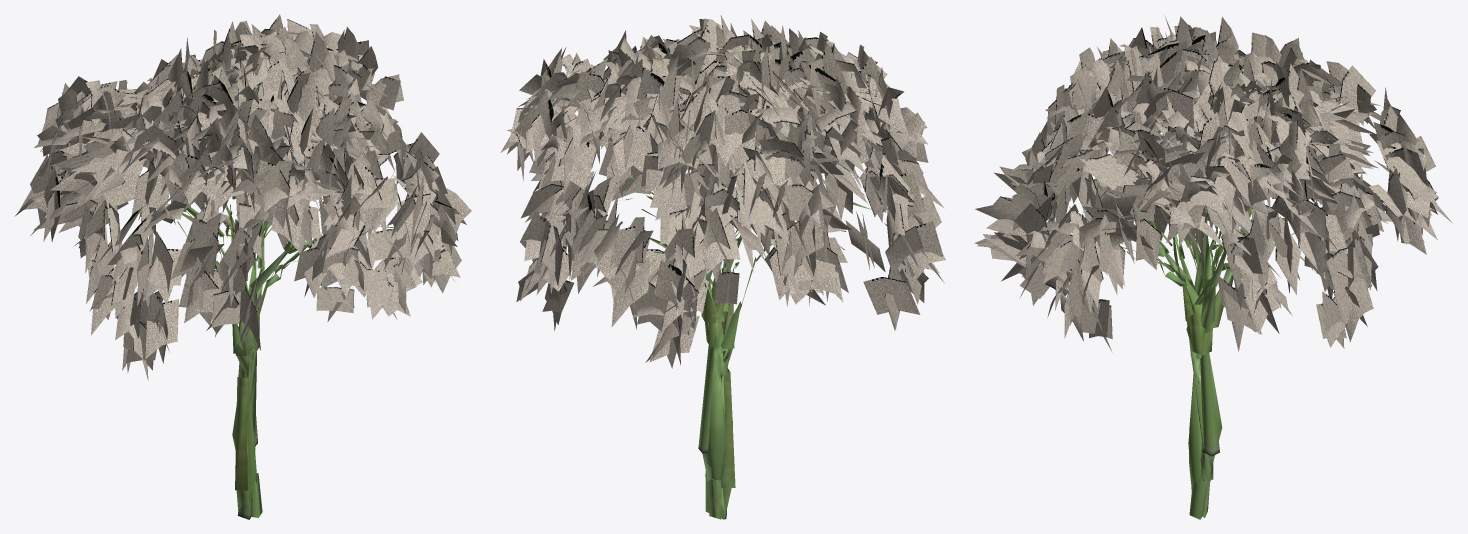
File: tree_4.glb
3 renders of one model, left to right at view 1: azimuth 30°, elevation 25°; view 2: azimuth 150°, elevation 25°; view 3: azimuth 270°, elevation 25°, orthographic. The views are drawn at different scales.
Parts seen in each view (by area): view 1: Mossy_Tr; view 2: Mossy_Tr; view 3: Mossy_Tr.
Part boxes in pixels (x1=…): Mossy_Tr: x1=14, y1=14, x2=471, y2=519; Mossy_Tr: x1=500, y1=15, x2=945, y2=519; Mossy_Tr: x1=974, y1=15, x2=1452, y2=519.
Size of the model in its own units: 19.21 by 24.68 by 22.66.
1 material, 1 textured.
